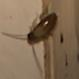cockroach: (26, 12, 58, 45)
